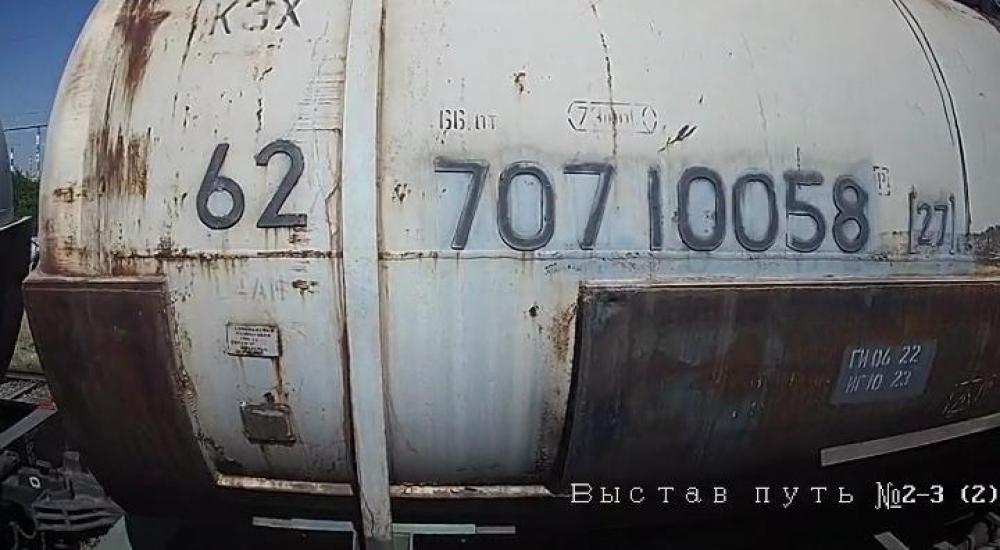Wagon-number: (428, 153, 872, 259)
